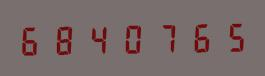eight: (50, 21, 82, 56)
five: (215, 18, 247, 53)
four: (83, 20, 115, 56)
seven: (149, 19, 181, 55)
six: (17, 22, 49, 57), (182, 19, 214, 54)
zero: (116, 20, 148, 55)
